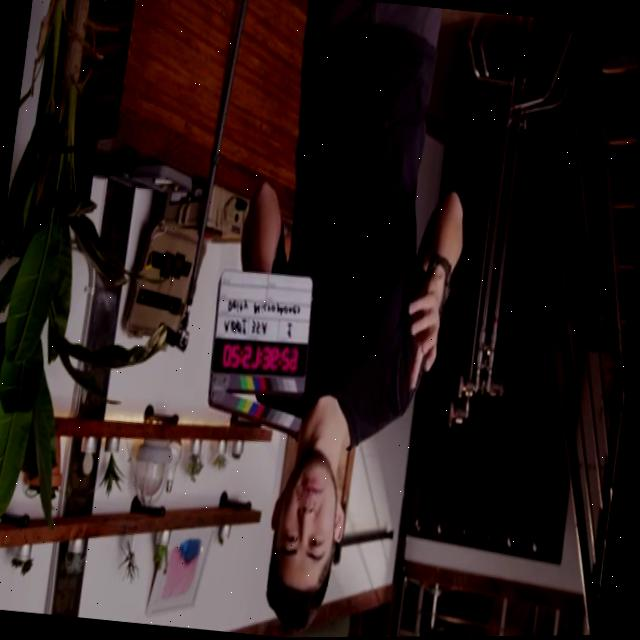Clapperboard: (200, 264, 318, 438)
